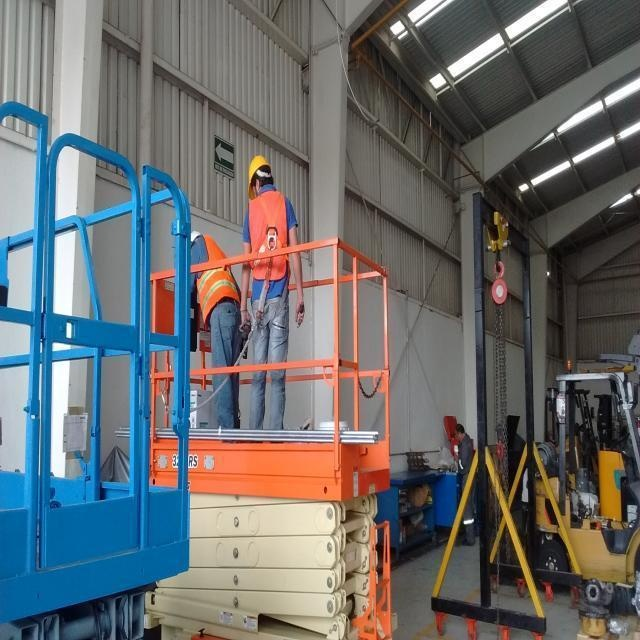Arnes_seguridad: (244, 193, 287, 331)
